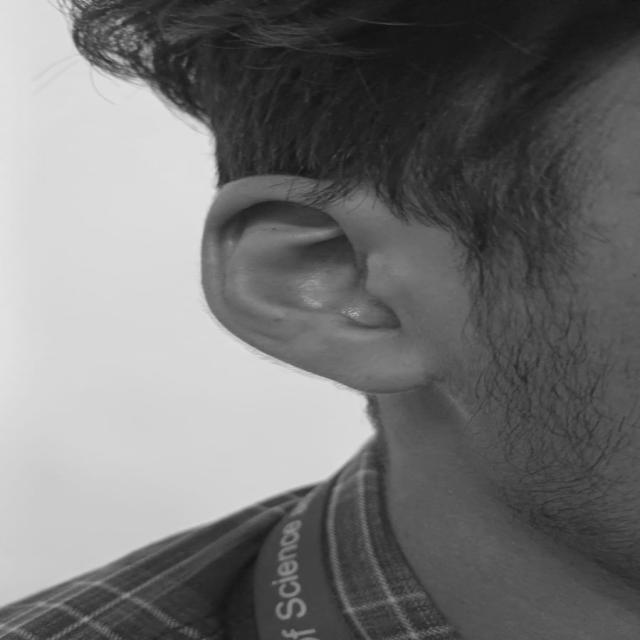ear: (201, 176, 427, 393), (388, 215, 391, 217), (373, 216, 374, 217)
